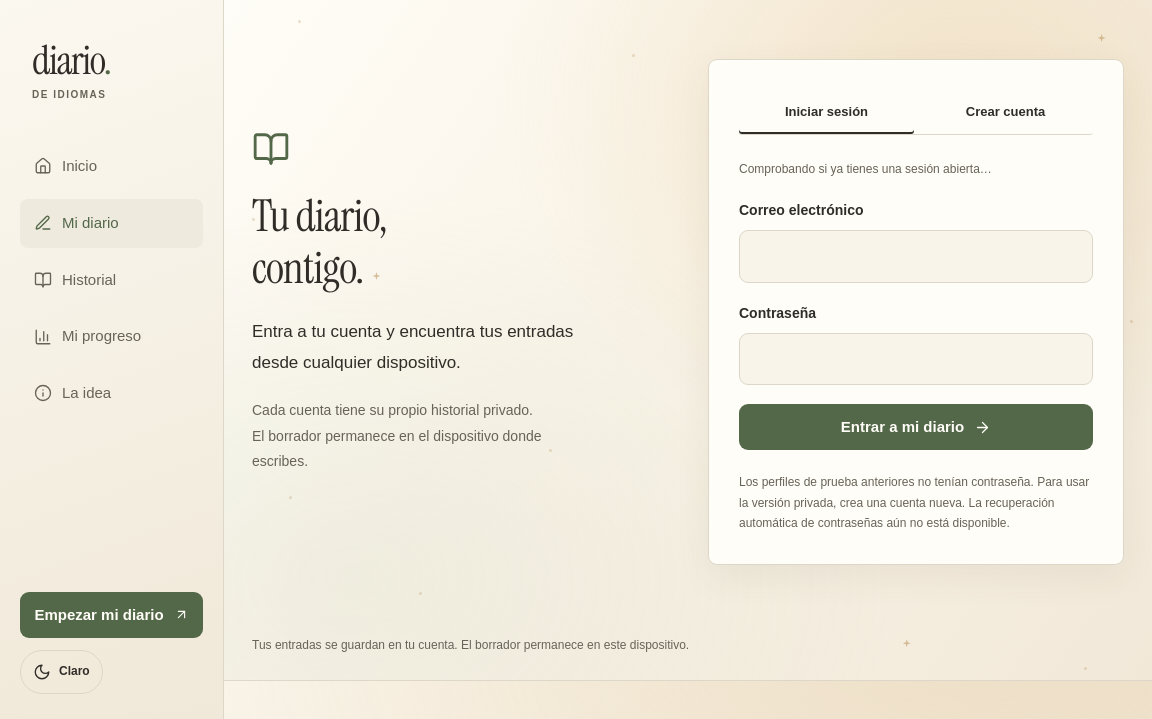
Test: sesión inicial y acceso concurrente › muestra ocho caracteres como mínimo al crear una cuenta
This screenshot has width=1152, height=719.
Click the button "Crear cuenta": (1006, 112) top-left (918, 90), bottom-right (1093, 134)
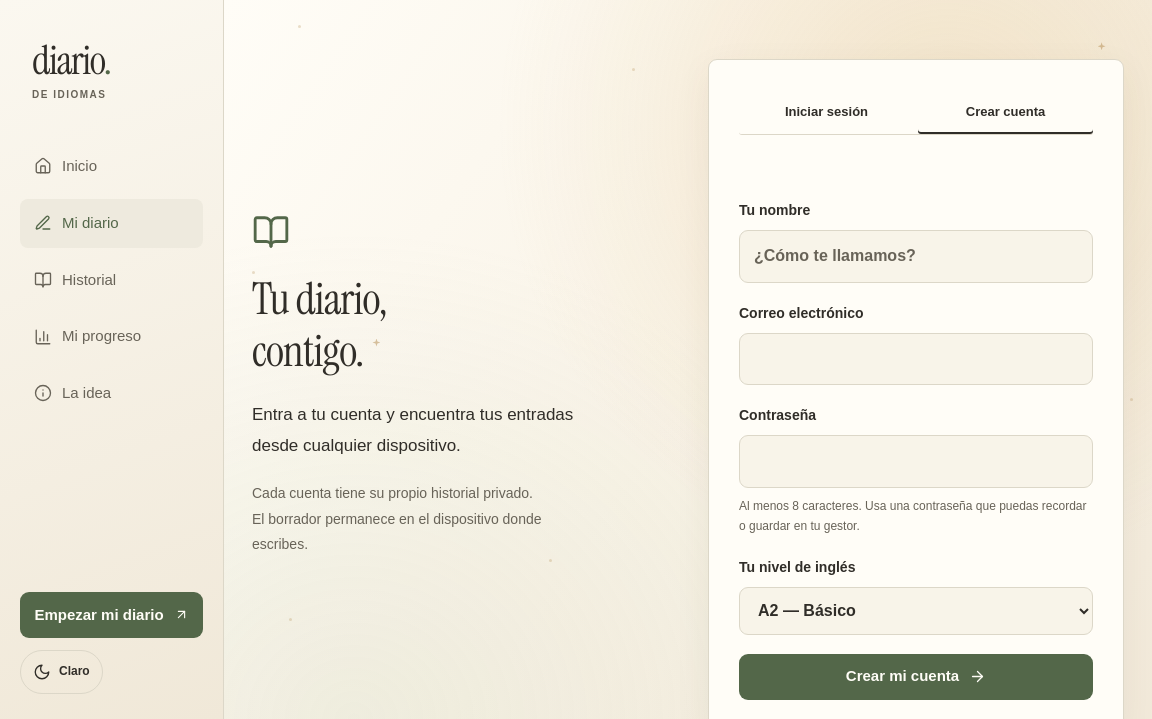
Expected: the text "Al menos 8 caracteres" is shown, top-left (739, 499), bottom-right (1086, 533)
